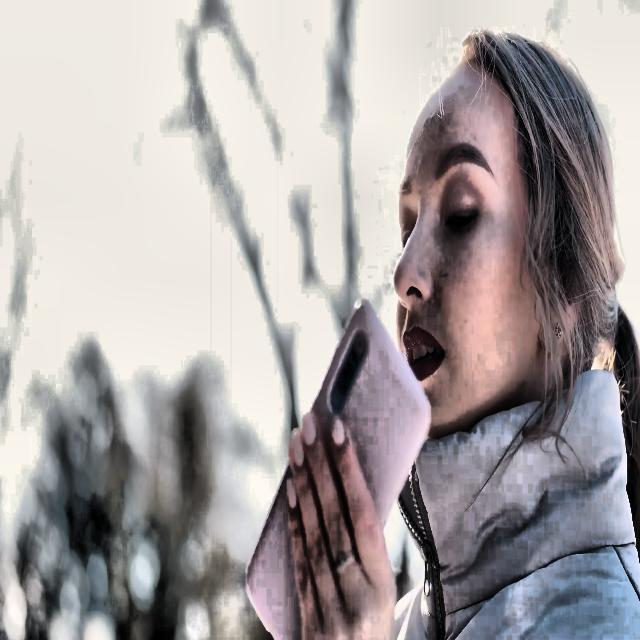Phone: (245, 299, 432, 640)
